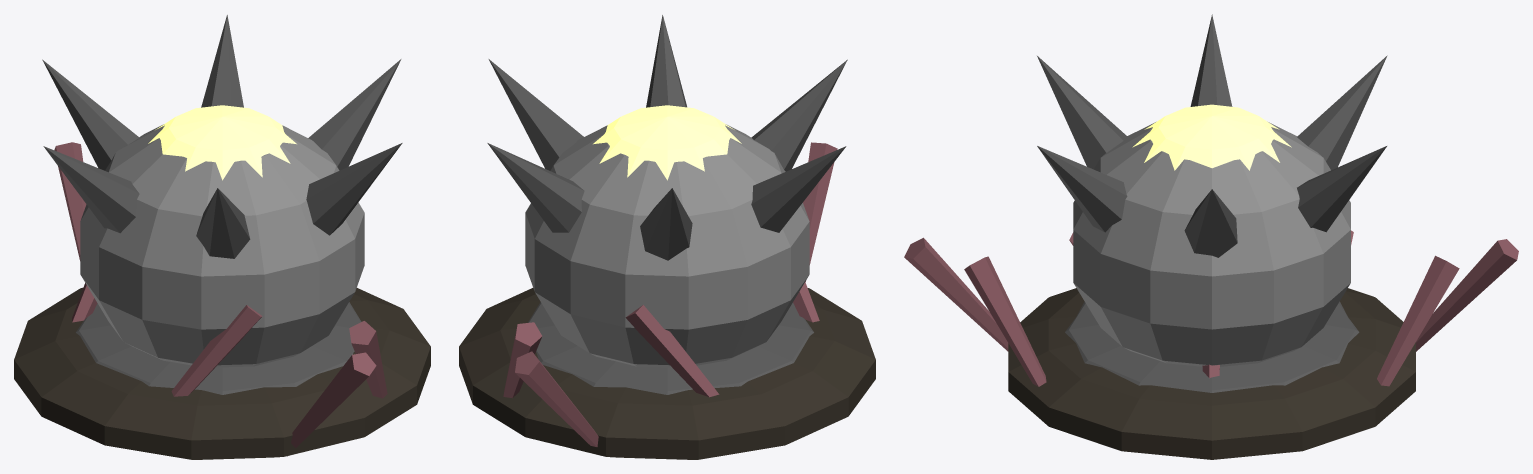
File: bl_bloom.glb
3 views of the same model, side by side, from view 1: azimuth 30°, elevation 25°; view 2: azimuth 150°, elevation 25°; view 3: azimuth 270°, elevation 25° (orthographic).
Parts seen in each view (by area): view 1: body; view 2: body; view 3: body.
Boxes of the visible parts, bbox=[...] form: body: bbox=[14, 15, 430, 459]; body: bbox=[459, 15, 875, 459]; body: bbox=[904, 14, 1518, 459].
Size of the model in its own units: 68.63 by 55.33 by 101.
